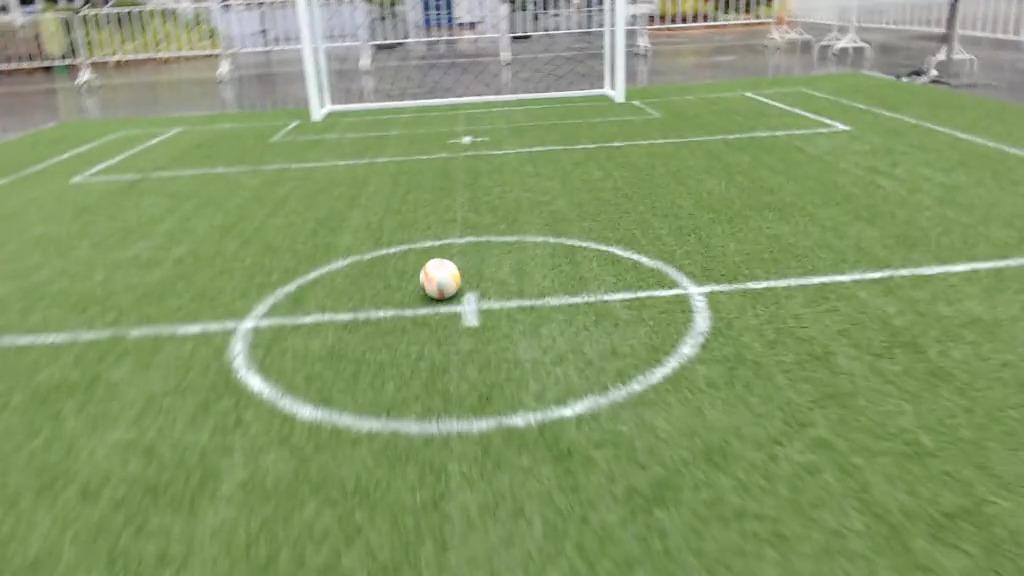ball: (408, 249, 470, 306)
